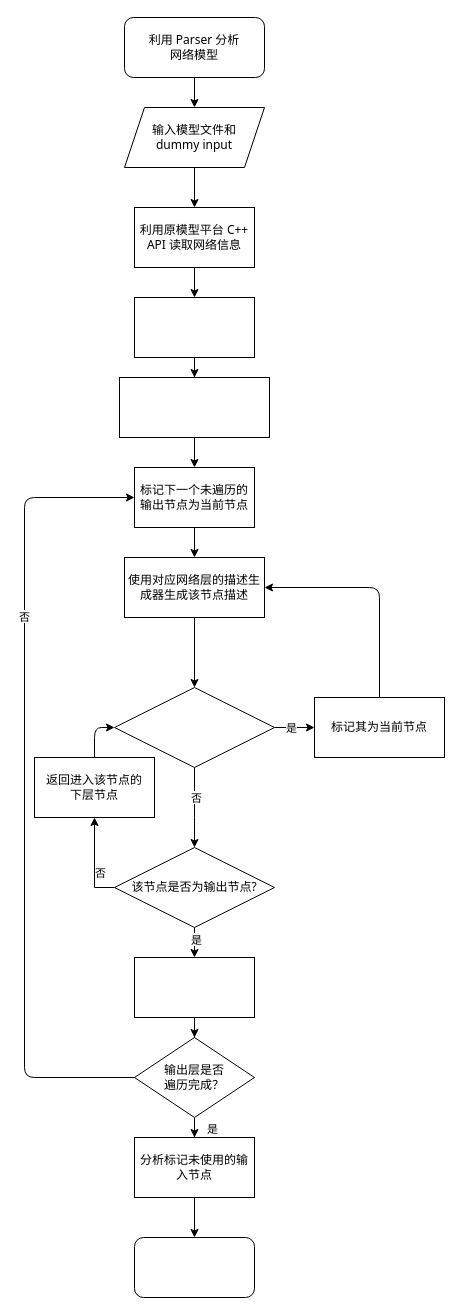
The diagram is 462 pixels wide and 1315 high, and some of its shapes have lost their labels. The shapes that lost their labels are listed below. From the top down, each one's centre as x and y in pixels, then its label:
the point at 194,327: 遍历所有模型节点，标记输入和输出
the point at 194,407: 生成输入节点的相关信息，作为遍历的终止节点
the point at 194,727: 该节点是否存在 未处理的上层节点？
the point at 194,987: 进行输出层的 特殊处理
the point at 194,1267: 结束
